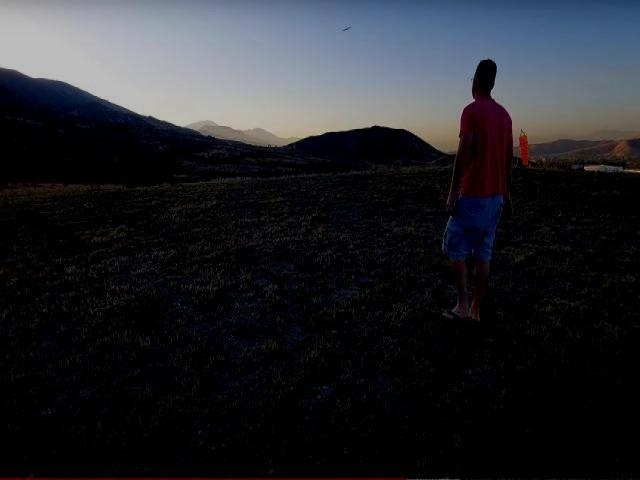iha: (342, 26, 352, 32)
